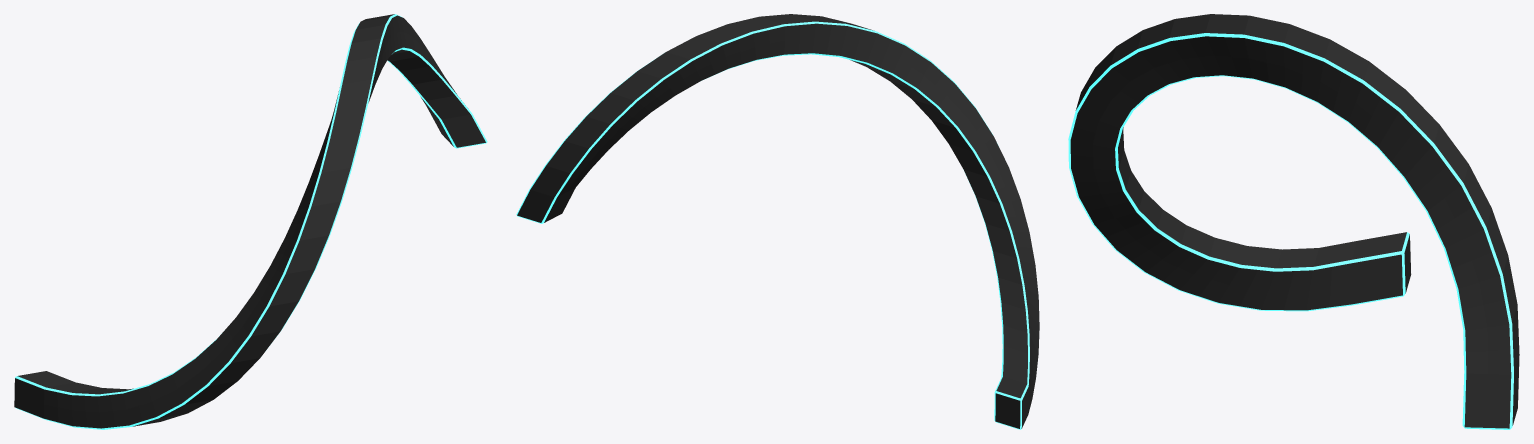
Rendered from TestTwist.fbx.
3 renders of one model, left to right at view 1: azimuth 30°, elevation 25°; view 2: azimuth 150°, elevation 25°; view 3: azimuth 270°, elevation 25°, orthographic. The views are drawn at different scales.
Parts seen in each view (by area): view 1: Cube; view 2: Cube; view 3: Cube.
Part boxes in pixels (x1,y1,x2,y2): Cube: [14, 14, 487, 429]; Cube: [516, 14, 1039, 429]; Cube: [1068, 14, 1519, 429].
Size of the model in its own units: 3168 by 1988 by 1793.
